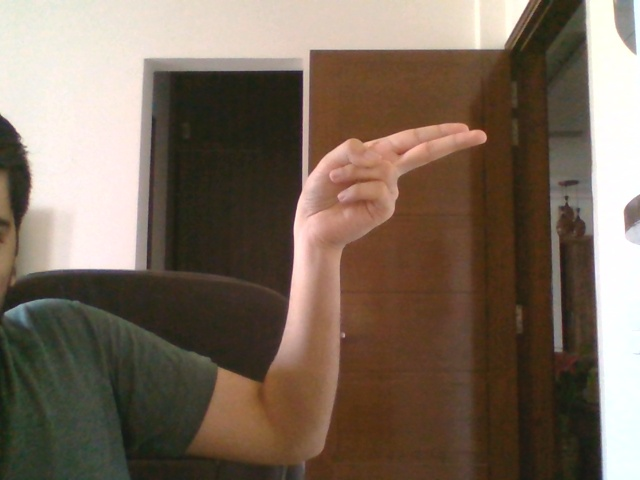LetterH: (292, 122, 488, 247)
